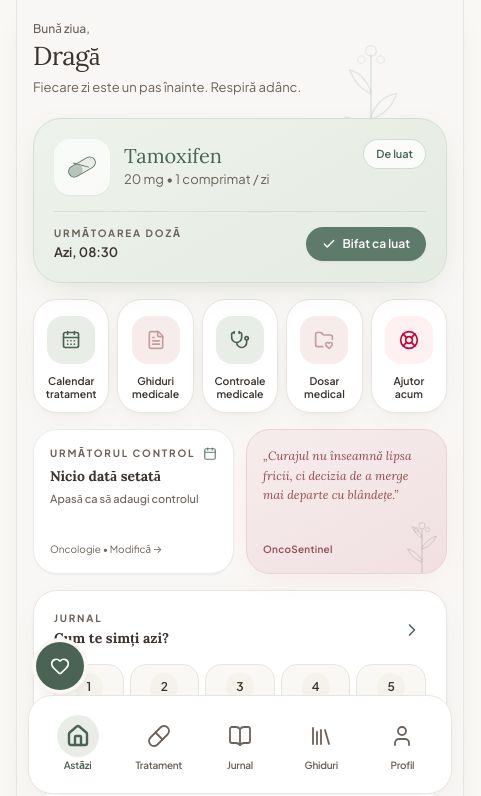
Săptămâna ta › apare în Jurnal
Click the button "Jurnal".
click(240, 744)  # box [199, 706, 281, 783]
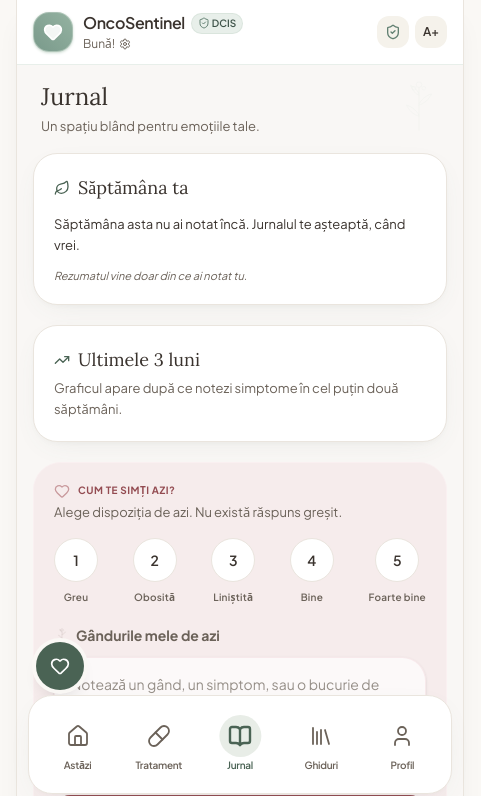
expect the heading "Săptămâna ta" is shown: met, box [78, 174, 188, 202]
expect the text "Rezumatul vine doar din ce ai notat tu." is shown: met, box [54, 269, 247, 282]
